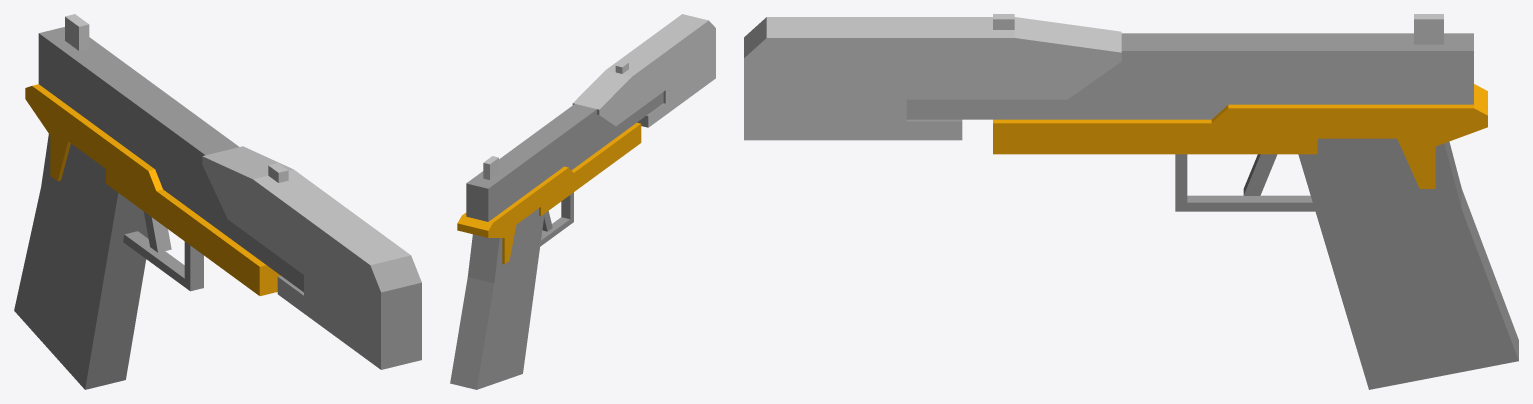
Rendered from SmartPistol.fbx.
The picture shows the model from 3 angles, left to right: view 1: azimuth 30°, elevation 25°; view 2: azimuth 150°, elevation 25°; view 3: azimuth 270°, elevation 25°; orthographic projection. The views are drawn at different scales.
Visible parts, largest first — view 1: Smart Pistol; view 2: Smart Pistol; view 3: Smart Pistol.
Part boxes in pixels (bbox=[...]): Smart Pistol: bbox=[14, 14, 421, 389]; Smart Pistol: bbox=[450, 14, 715, 389]; Smart Pistol: bbox=[744, 14, 1518, 389].
Size of the model in its own units: 35 by 242 by 468.
